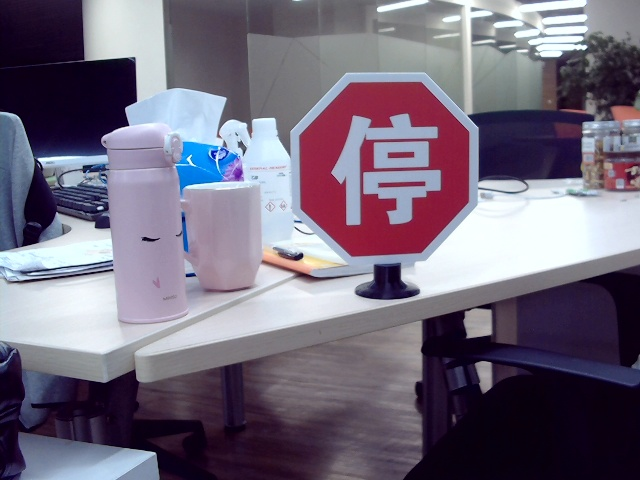stop: (329, 111, 445, 228)
